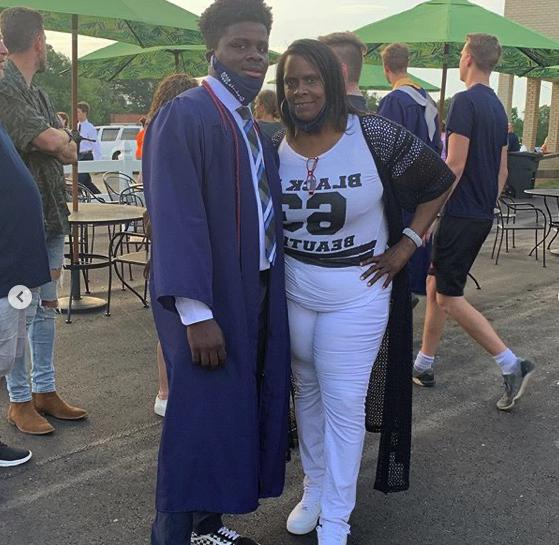mask_weared_incorrect: (210, 35, 272, 94), (285, 66, 325, 131)
without_mask: (455, 41, 475, 81), (38, 30, 51, 71)
